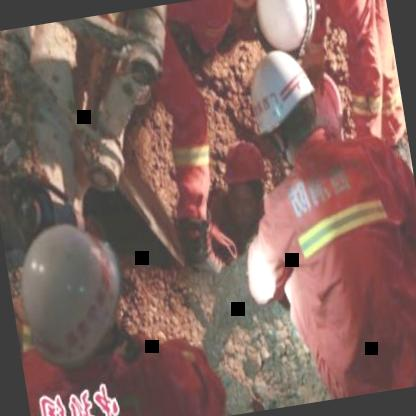helmet: (0, 207, 134, 383), (242, 42, 332, 173), (216, 136, 274, 227), (249, 0, 325, 62)
